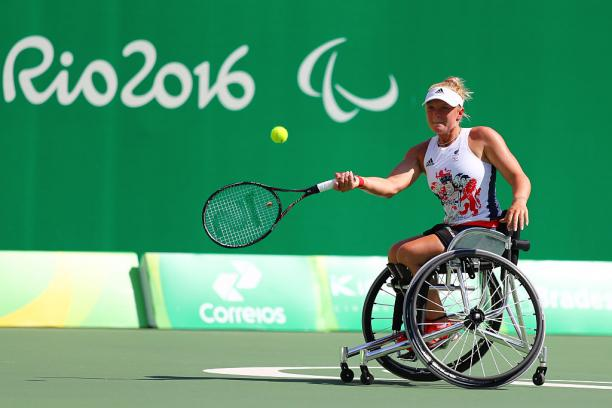person: (375, 70, 539, 225)
wheelchair: (335, 222, 552, 389)
